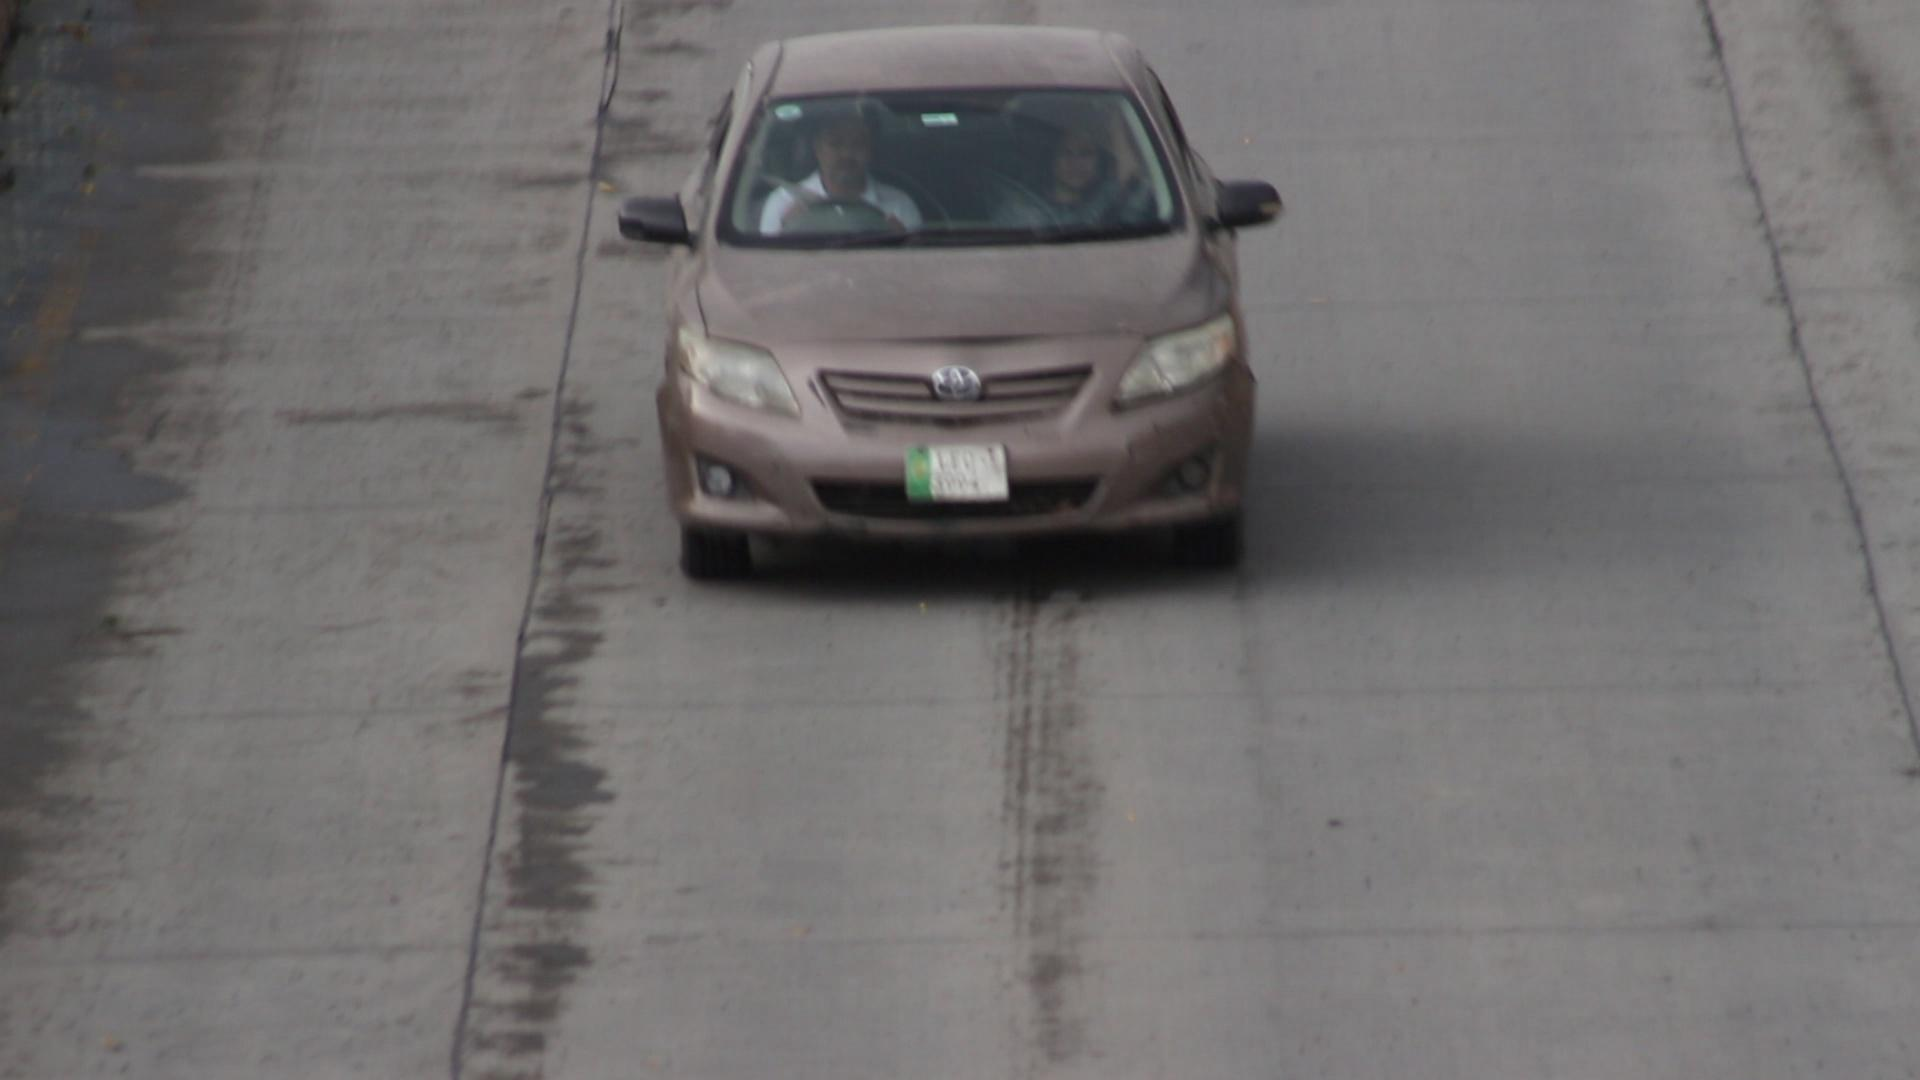windshield: (721, 80, 1184, 260)
